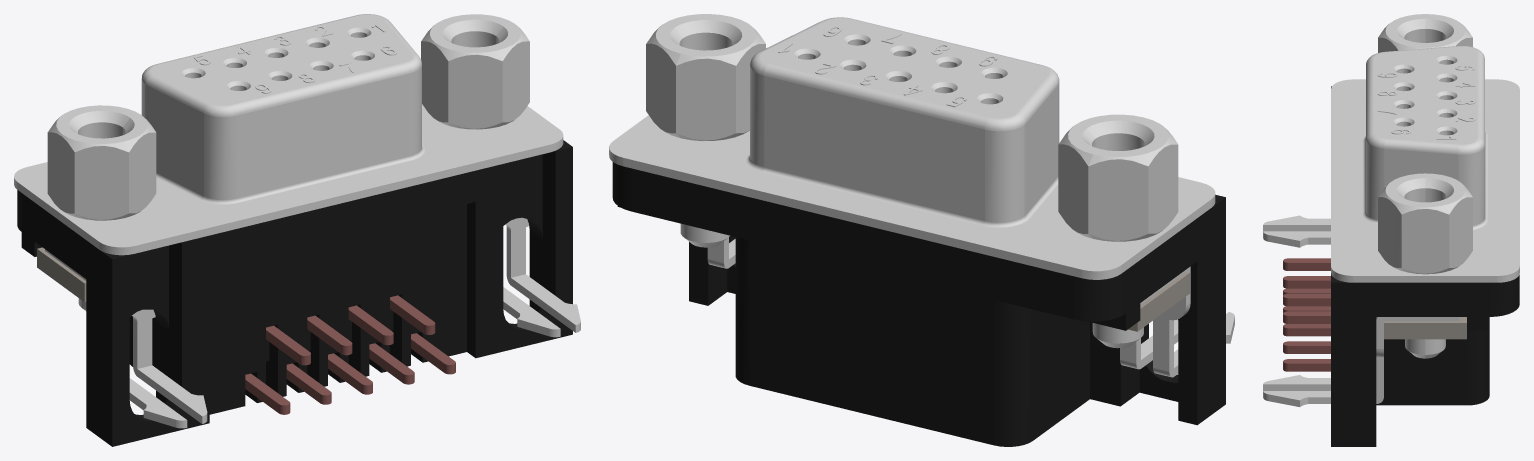
Rendered from sfe-de9-female.glb.
The picture shows the model from 3 angles, left to right: view 1: azimuth 30°, elevation 25°; view 2: azimuth 150°, elevation 25°; view 3: azimuth 270°, elevation 25°; orthographic projection. The views are drawn at different scales.
Parts seen in each view (by area): view 1: 0.6666666666666666_0.6666666666666666_0.6666666666666666_0.8, 0_0_0_0, 0.25_0.08333333333333333_0.08333333333333333_0, 0.4166666666666667_0.3333333333333333_0.3333333333333333_0; view 2: 0.6666666666666666_0.6666666666666666_0.6666666666666666_0.8, 0_0_0_0, 0.4166666666666667_0.3333333333333333_0.3333333333333333_0; view 3: 0.6666666666666666_0.6666666666666666_0.6666666666666666_0.8, 0_0_0_0, 0.25_0.08333333333333333_0.08333333333333333_0, 0.4166666666666667_0.3333333333333333_0.3333333333333333_0.
Part boxes in pixels (bbox=[...]): 0.6666666666666666_0.6666666666666666_0.6666666666666666_0.8: bbox=[14, 14, 580, 428]; 0_0_0_0: bbox=[17, 140, 572, 446]; 0.25_0.08333333333333333_0.08333333333333333_0: bbox=[245, 295, 455, 414]; 0.4166666666666667_0.3333333333333333_0.3333333333333333_0: bbox=[37, 247, 86, 302]; 0.6666666666666666_0.6666666666666666_0.6666666666666666_0.8: bbox=[609, 14, 1234, 377]; 0_0_0_0: bbox=[612, 162, 1225, 446]; 0.4166666666666667_0.3333333333333333_0.3333333333333333_0: bbox=[1128, 272, 1189, 331]; 0.6666666666666666_0.6666666666666666_0.6666666666666666_0.8: bbox=[1263, 14, 1519, 406]; 0_0_0_0: bbox=[1331, 86, 1519, 446]; 0.25_0.08333333333333333_0.08333333333333333_0: bbox=[1283, 258, 1330, 371]; 0.4166666666666667_0.3333333333333333_0.3333333333333333_0: bbox=[1384, 317, 1466, 339].
Bounding box in the file's own units: 3.08 × 1.85 × 1.7.
